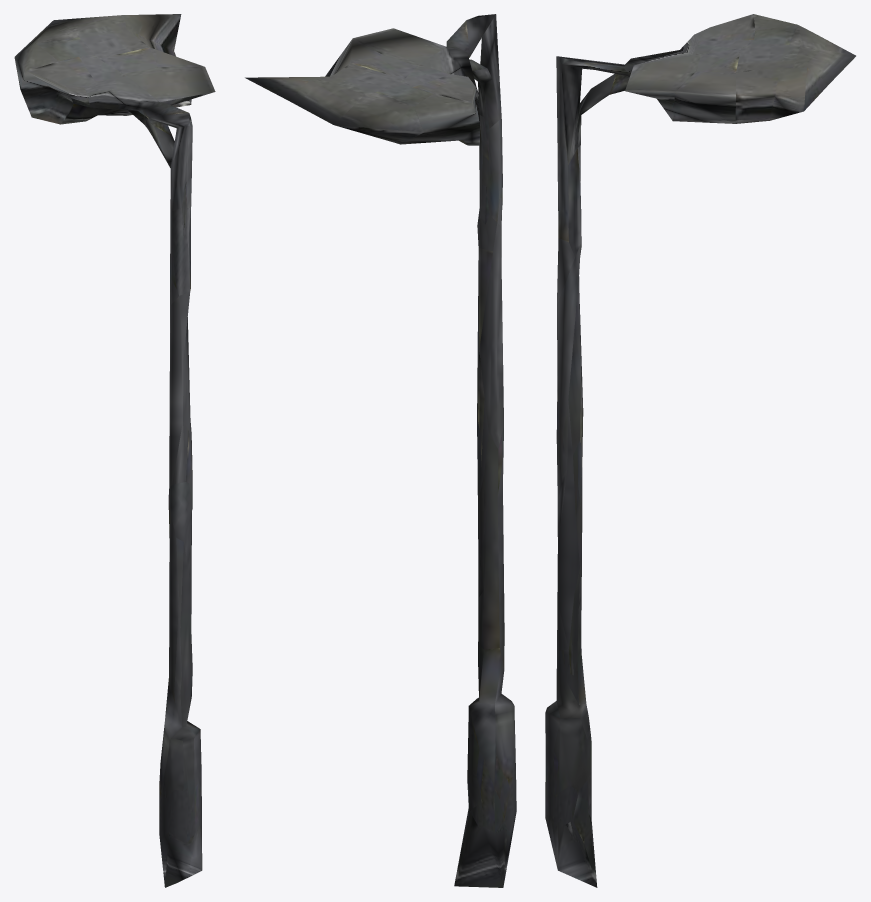
The model's file is laterne.glb.
The picture shows the model from 3 angles, left to right: view 1: azimuth 30°, elevation 25°; view 2: azimuth 150°, elevation 25°; view 3: azimuth 270°, elevation 25°; orthographic projection. The views are drawn at different scales.
Parts seen in each view (by area): view 1: tripo_node_bc5e1df7-e6d5-4165-8684-b335f261c8de; view 2: tripo_node_bc5e1df7-e6d5-4165-8684-b335f261c8de; view 3: tripo_node_bc5e1df7-e6d5-4165-8684-b335f261c8de.
Part boxes in pixels (bbox=[...]): tripo_node_bc5e1df7-e6d5-4165-8684-b335f261c8de: bbox=[14, 14, 215, 887]; tripo_node_bc5e1df7-e6d5-4165-8684-b335f261c8de: bbox=[245, 14, 516, 887]; tripo_node_bc5e1df7-e6d5-4165-8684-b335f261c8de: bbox=[545, 14, 855, 887].
Bounding box in the file's own units: 0.2478 × 0.9961 × 0.3354.
Materials: 1 (1 with a texture image).
